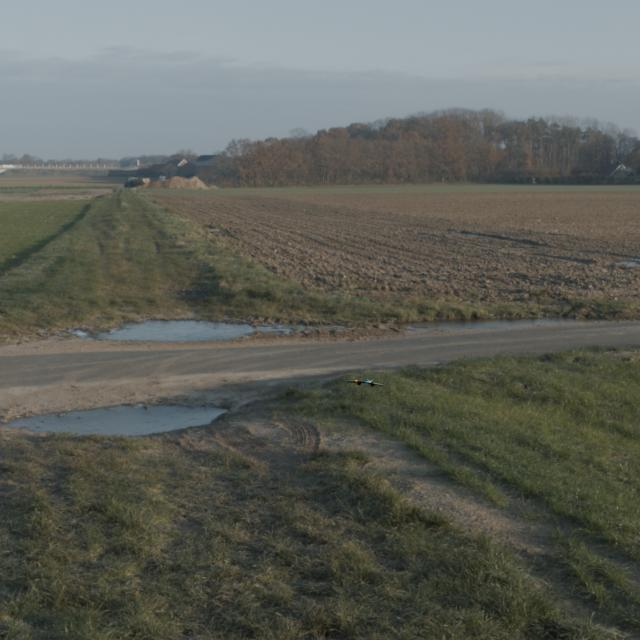Airaplan: (345, 379, 383, 387)
